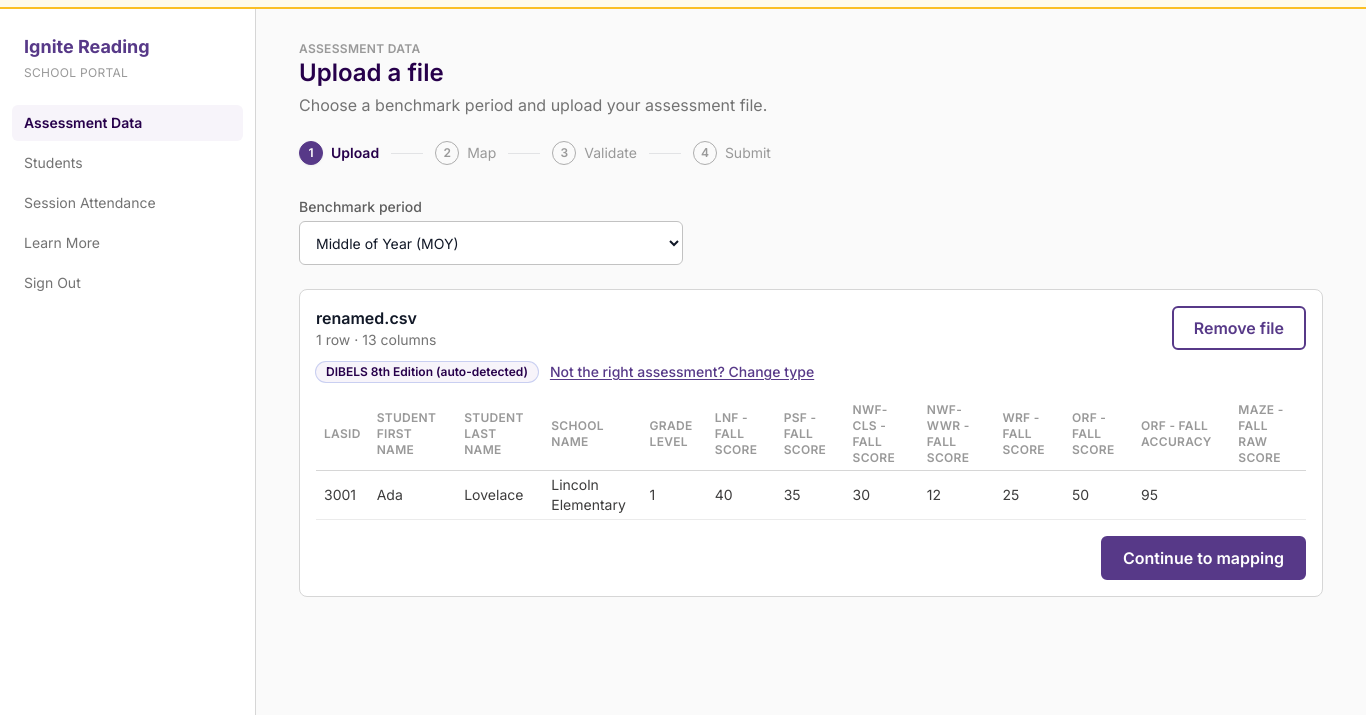
Test case: US2: column mapping › blocks advancing when a required field is unmapped, naming the field
Earlier steps of the test are not shown.
Click the button "Continue to mapping".
click(1204, 558)  # box [1101,536,1306,580]
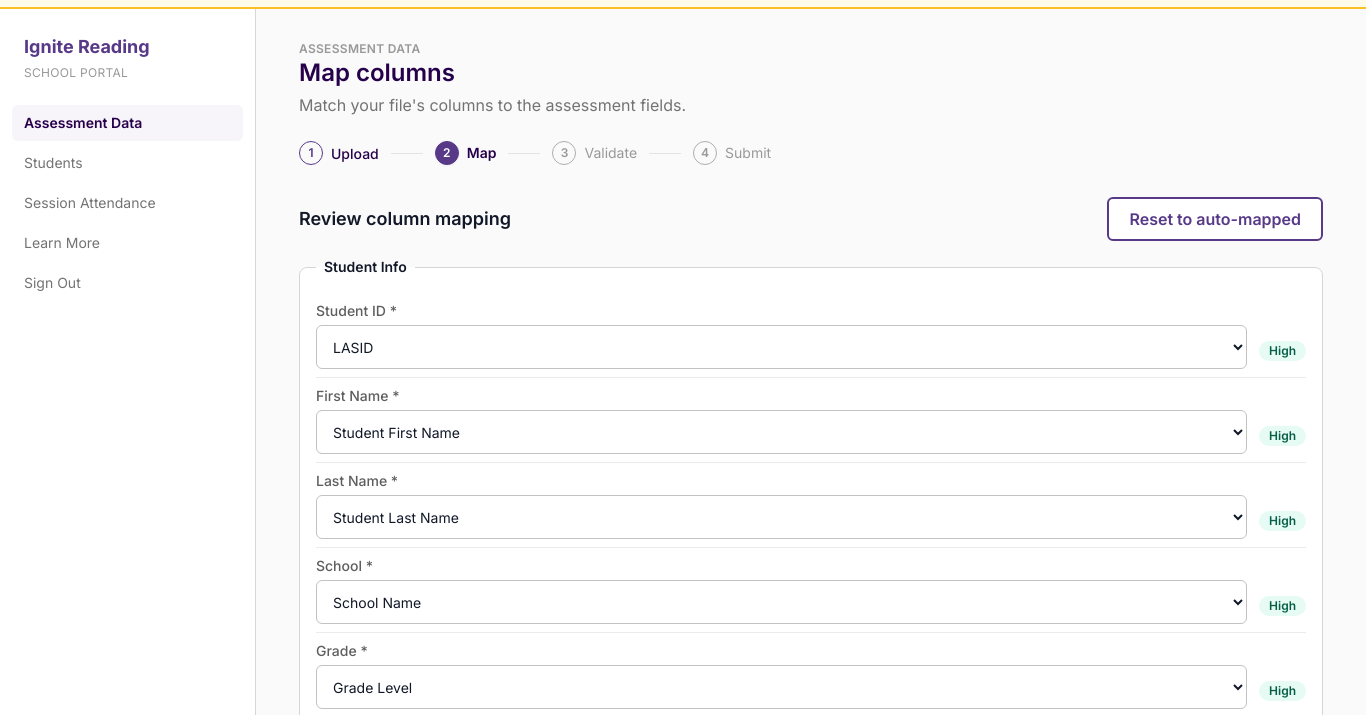
Now the heading "Review column mapping" is shown, box [299,205,511,233]
Select "Not present" in the dropdown labelled "Student ID *" at (782, 347), box [316,325,1247,369]
(page scrolled)
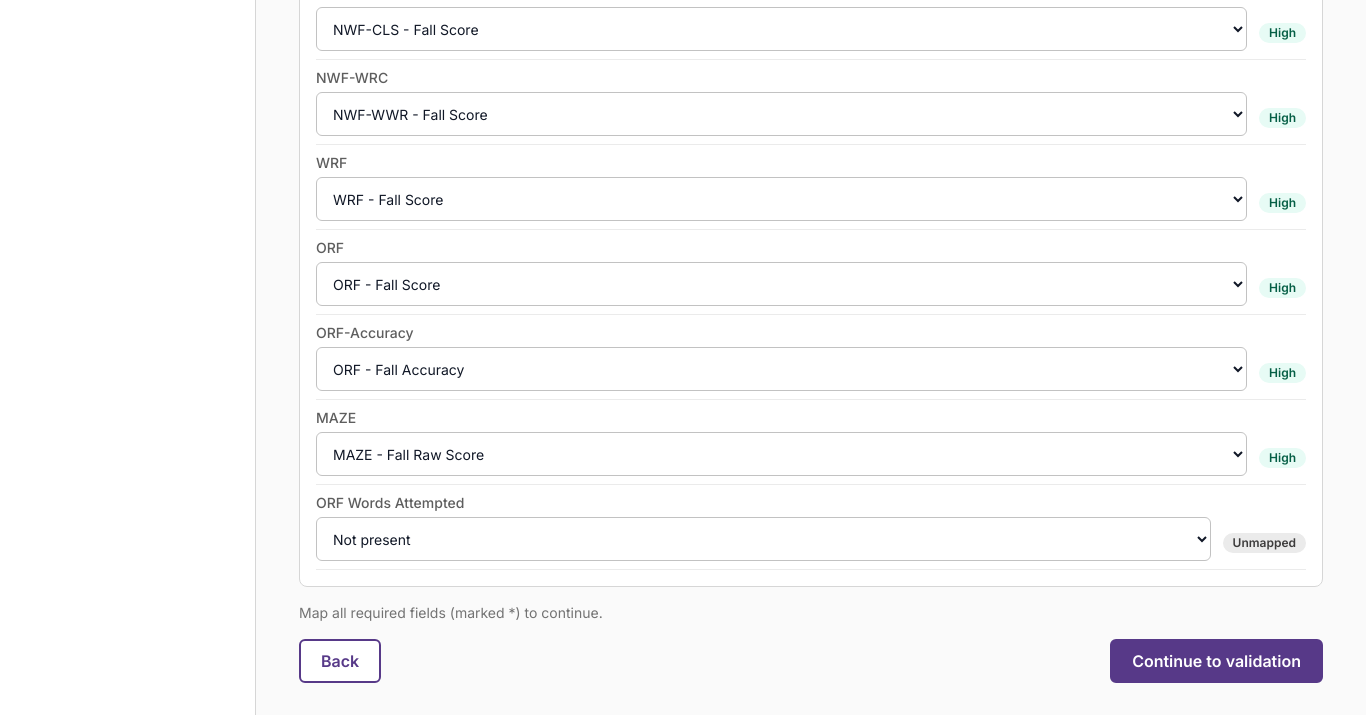
Click the button "Continue to validation".
click(1217, 661)  # box [1110,639,1323,683]
(page scrolled)
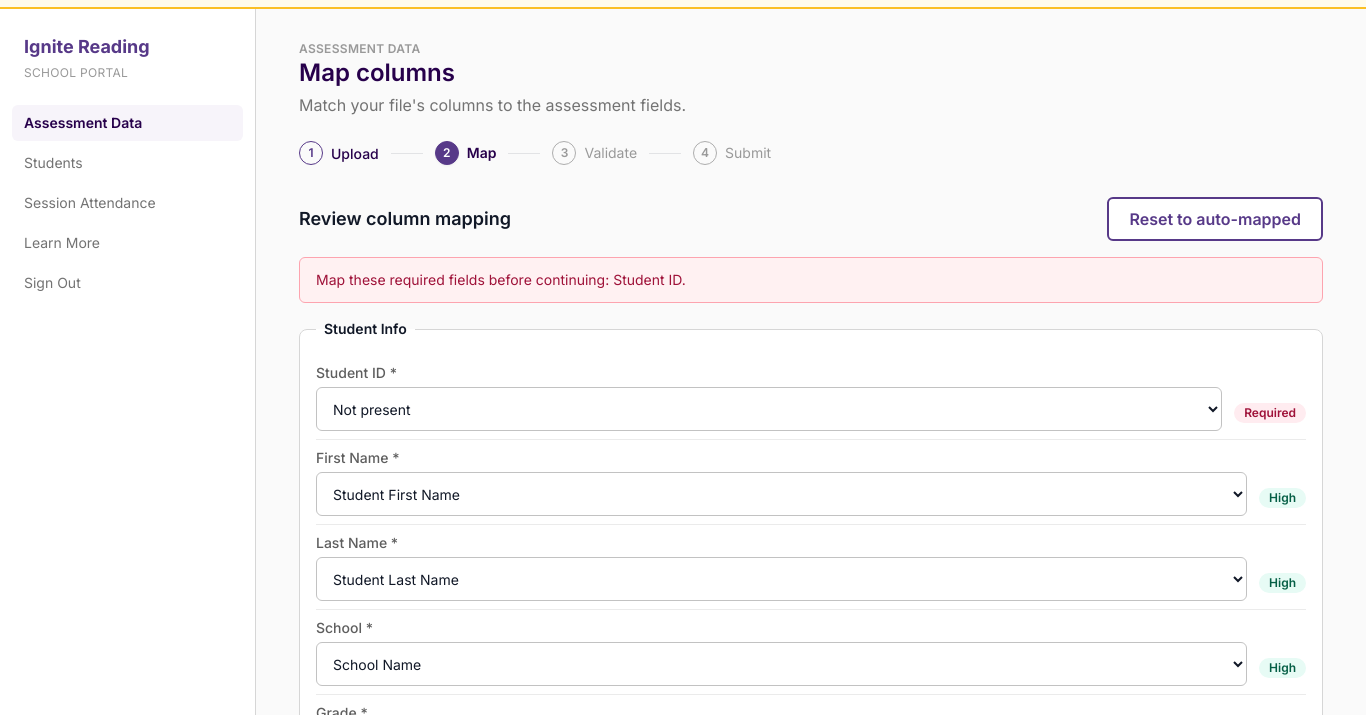
Now the heading "Review column mapping" is shown, box [299,205,511,233]
Now the message shows "Student ID", box [316,271,686,288]
